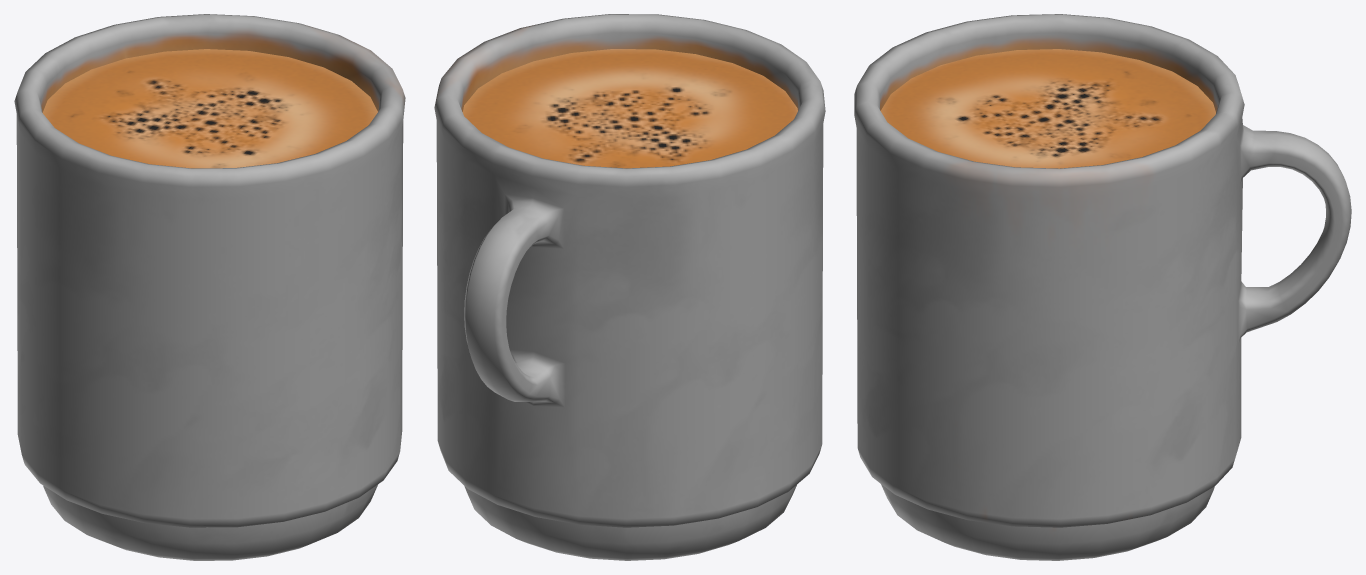
The model's file is SM_RPS_Mug_Filled_c1_LOD1.fbx.
The picture shows the model from 3 angles, left to right: view 1: azimuth 30°, elevation 25°; view 2: azimuth 150°, elevation 25°; view 3: azimuth 270°, elevation 25°; orthographic projection.
Parts seen in each view (by area): view 1: SM_RPS_Mug_Filled_c1_LOD1_LOD0; view 2: SM_RPS_Mug_Filled_c1_LOD1_LOD0; view 3: SM_RPS_Mug_Filled_c1_LOD1_LOD0.
Part boxes in pixels (box(x1,y1,x2,y2)): SM_RPS_Mug_Filled_c1_LOD1_LOD0: box(14, 14, 405, 560); SM_RPS_Mug_Filled_c1_LOD1_LOD0: box(434, 14, 825, 560); SM_RPS_Mug_Filled_c1_LOD1_LOD0: box(854, 14, 1351, 560).
Bounding box in the file's own units: 11.59 × 14.74 × 13.65.
